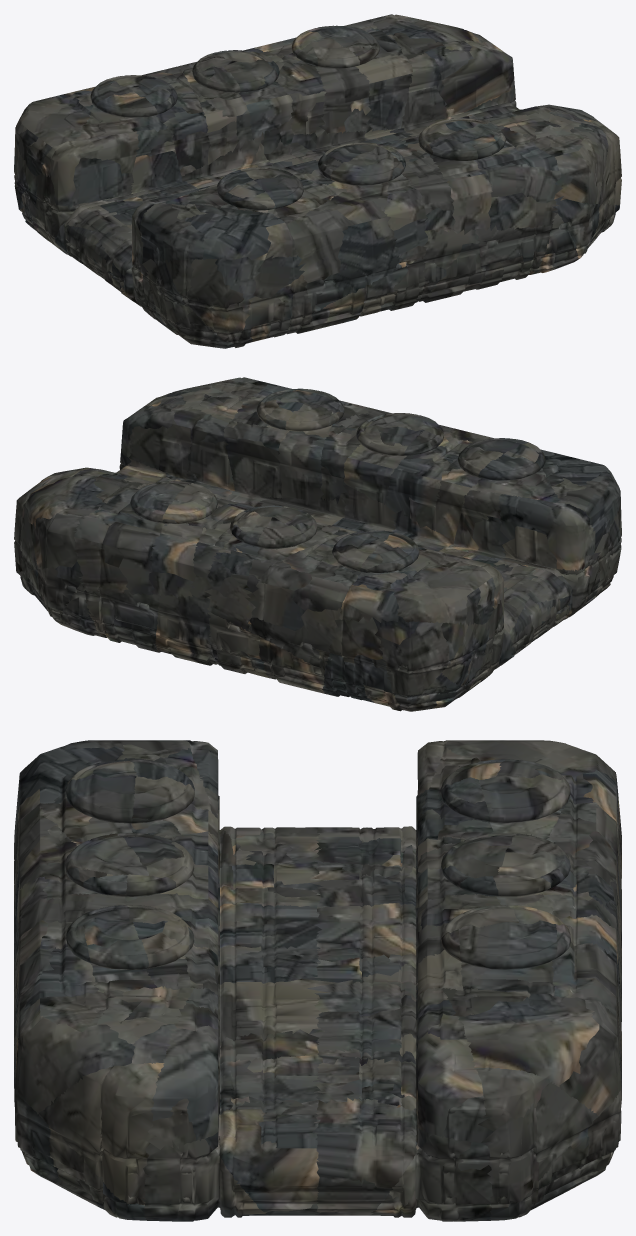
The model's file is arc-nest-lean.glb.
3 renders of one model, top to bottom at view 1: azimuth 30°, elevation 25°; view 2: azimuth 150°, elevation 25°; view 3: azimuth 270°, elevation 25°, orthographic. The views are drawn at different scales.
Visible parts, largest first — view 1: chassis; view 2: chassis; view 3: chassis.
Boxes of the visible parts, left/top/right/bottom form: chassis: left=14, top=14, right=621, bottom=348; chassis: left=14, top=377, right=621, bottom=711; chassis: left=14, top=740, right=621, bottom=1221.
Bounding box in the file's own units: 0.9899 × 0.2744 × 0.7516.
Materials: 1 (1 with a texture image).
